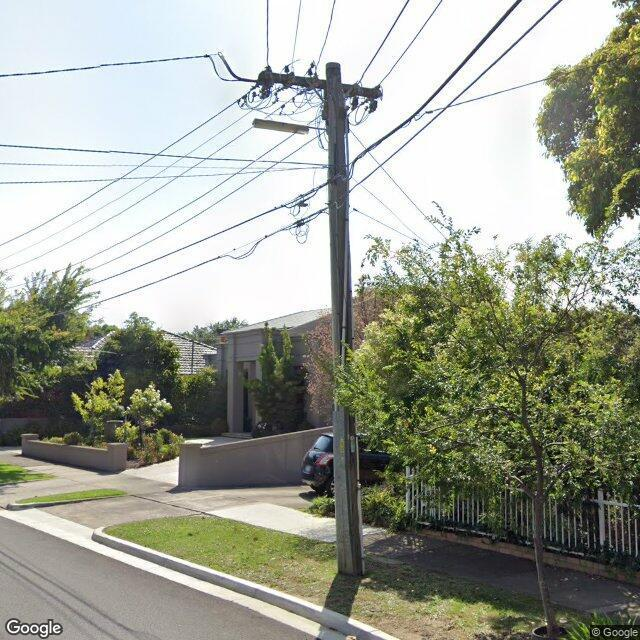crossarm: (235, 63, 383, 115)
streetlight: (252, 117, 328, 136)
timber-pole: (325, 62, 365, 578)
